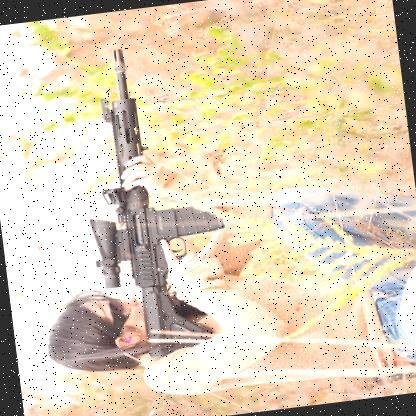rifle: (66, 31, 238, 365)
